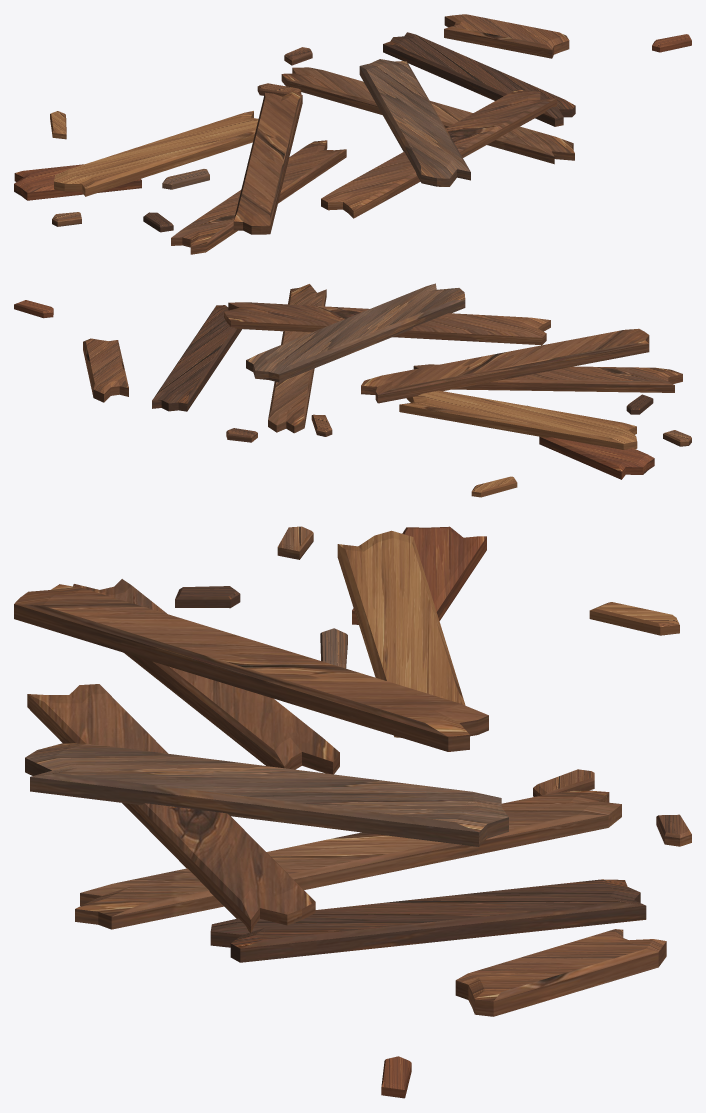
File: junk_rubble_wood_d.glb
3 views of the same model, one above another, from view 1: azimuth 30°, elevation 25°; view 2: azimuth 150°, elevation 25°; view 3: azimuth 270°, elevation 25° (orthographic). The views are drawn at different scales.
Visible parts, largest first — view 1: model; view 2: model; view 3: model.
Part boxes in pixels (x1,y1,x2,y2): model: [14, 14, 691, 254]; model: [14, 283, 691, 497]; model: [14, 526, 691, 1098].
Bounding box in the file's own units: 1.93 × 0.0821 × 0.9857.
8 materials, 8 textured.
